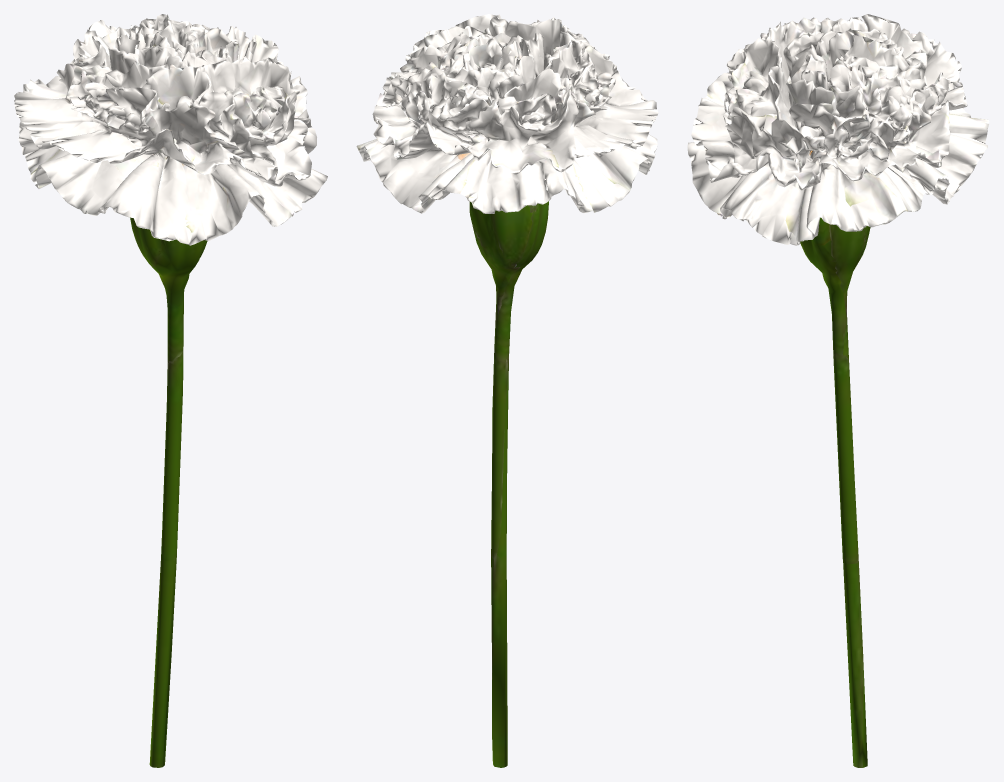
File: carnation_white.glb
3 views of the same model, side by side, from view 1: azimuth 30°, elevation 25°; view 2: azimuth 150°, elevation 25°; view 3: azimuth 270°, elevation 25° (orthographic). The views are drawn at different scales.
Bounding box in the file's own units: 0.7236 × 1.9 × 0.7067.
Materials: 1 (1 with a texture image).
